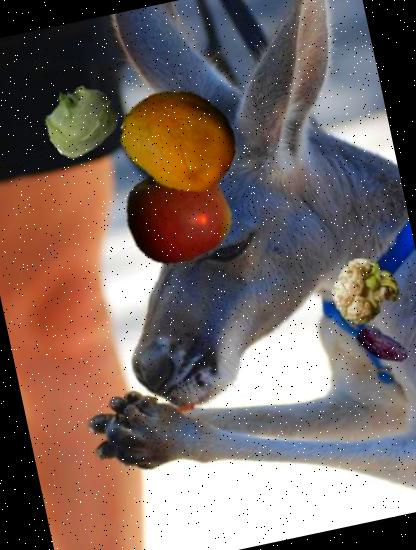Apple: (115, 152, 241, 278)
Cauliflower: (326, 250, 408, 332)
Dates: (350, 314, 414, 378)
Kohlrabi: (35, 74, 124, 162)
Papaya: (109, 70, 248, 209)
